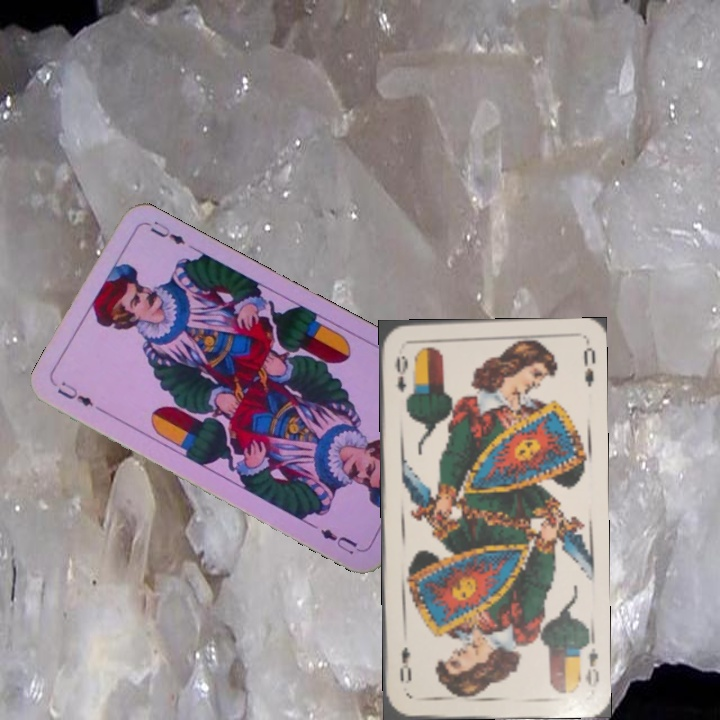EO: (575, 632, 601, 690), (391, 352, 411, 395)
EU: (53, 377, 96, 410)
